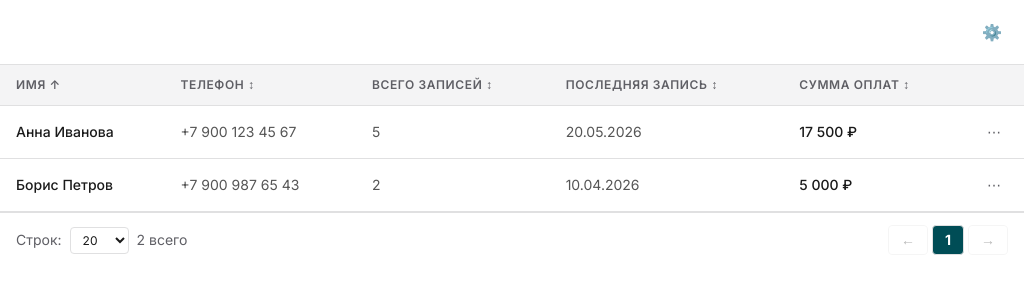
Test: ClientsTable › hides column when unchecked via ColumnPicker
The width and height of the screenshot is (1024, 284).
// Open picker
Click the button named "Настроить колонки": (992, 32) [976,16,1008,48]
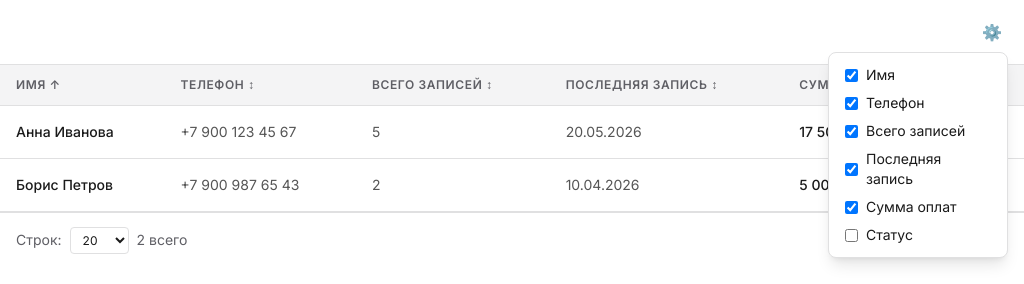
// Uncheck "Телефон"
Click the checkbox labelled "Телефон": (852, 103) [845,96,858,110]
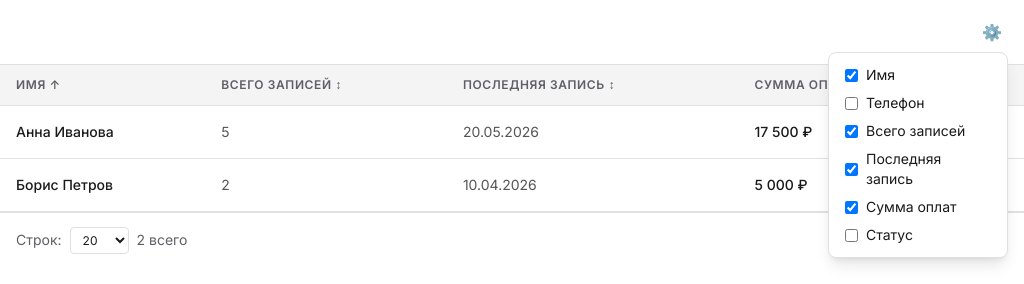
Expected: the text "Телефон" is not shown
Now the text "+7 900 123 45 67" is gone
